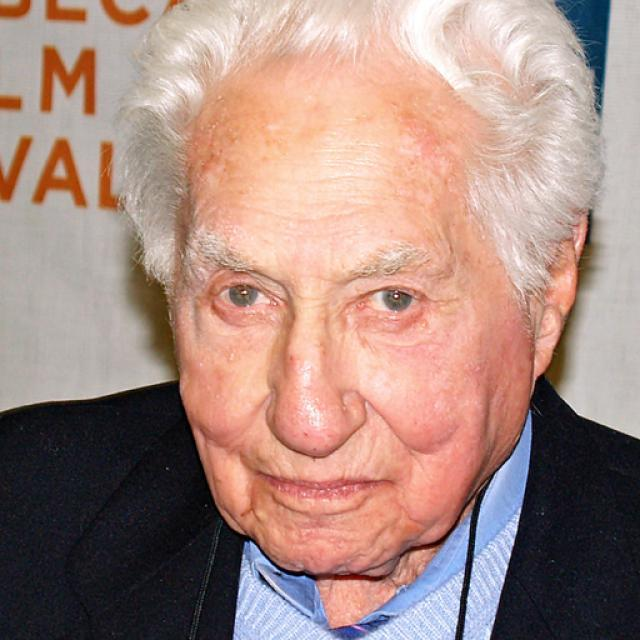content: (173, 38, 533, 576)
